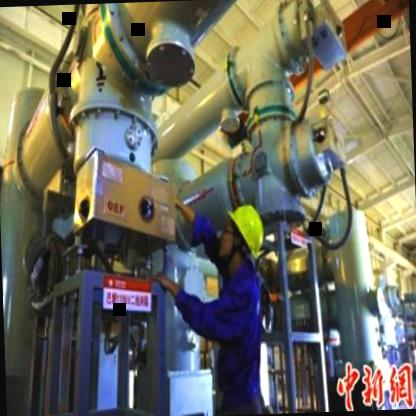helmet: (218, 200, 264, 272)
